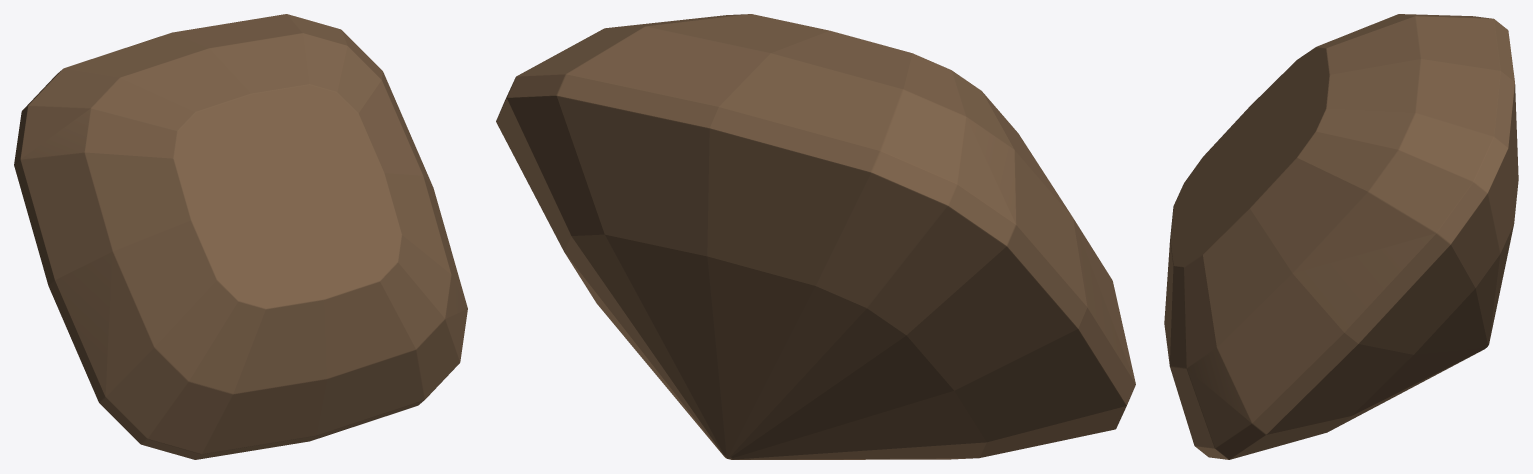
The model's file is smoky-quartz.glb.
3 views of the same model, side by side, from view 1: azimuth 30°, elevation 25°; view 2: azimuth 150°, elevation 25°; view 3: azimuth 270°, elevation 25° (orthographic). The views are drawn at different scales.
Parts seen in each view (by area): view 1: smoky-quartz.001; view 2: smoky-quartz.001; view 3: smoky-quartz.001.
Boxes of the visible parts, left/top/right/bottom form: smoky-quartz.001: left=14, top=14, right=467, bottom=459; smoky-quartz.001: left=496, top=14, right=1135, bottom=459; smoky-quartz.001: left=1164, top=14, right=1518, bottom=459.
Bounding box in the file's own units: 2.1 × 1.69 × 1.57.
